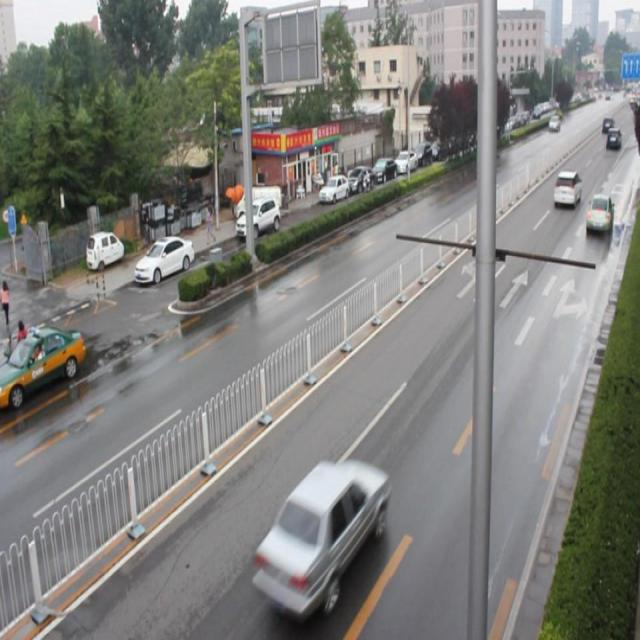car: (255, 451, 387, 620), (552, 170, 581, 208), (586, 194, 612, 235)
